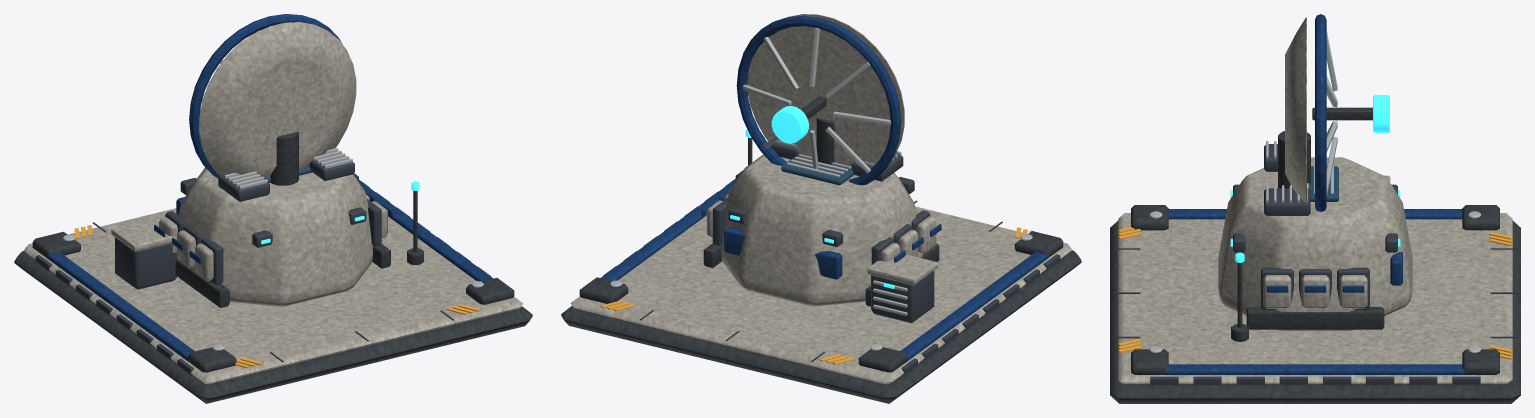
Rendered from solis_centre_de_veille.gltf.
3 renders of one model, left to right at view 1: azimuth 30°, elevation 25°; view 2: azimuth 150°, elevation 25°; view 3: azimuth 270°, elevation 25°, orthographic. The views are drawn at different scales.
Parts seen in each view (by area): view 1: Building.009_Geometry, GunPitch.001_Geometry; view 2: Building.009_Geometry, GunPitch.001_Geometry; view 3: Building.009_Geometry, GunPitch.001_Geometry.
Boxes of the visible parts, x1=… form: Building.009_Geometry: x1=14, y1=132, x2=532, y2=403; GunPitch.001_Geometry: x1=189, y1=14, x2=356, y2=178; Building.009_Geometry: x1=561, y1=118, x2=1081, y2=403; GunPitch.001_Geometry: x1=736, y1=14, x2=904, y2=185; Building.009_Geometry: x1=1110, y1=131, x2=1520, y2=403; GunPitch.001_Geometry: x1=1285, y1=14, x2=1389, y2=211.
Size of the model in its own units: 3.92 by 3.14 by 3.92.
8 materials, 3 textured.
